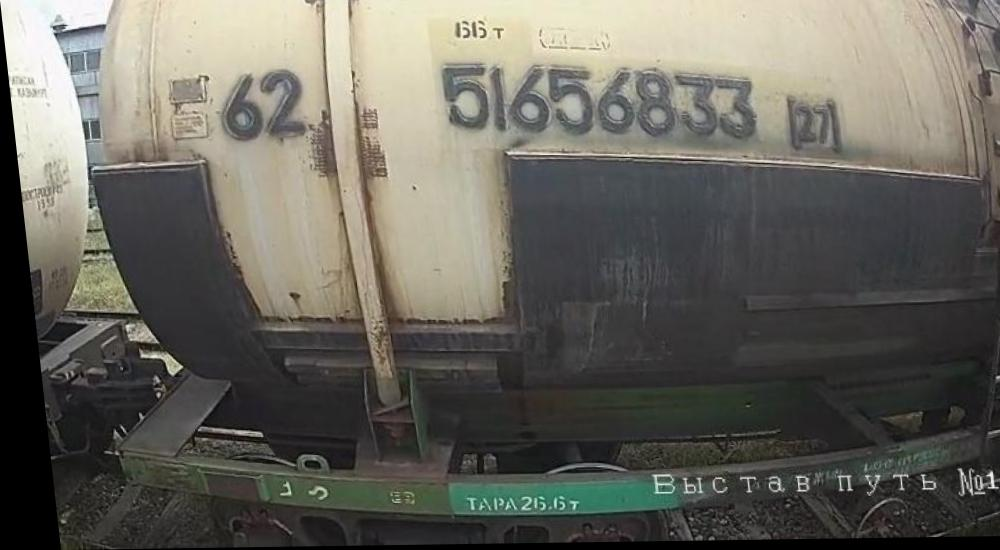Wagon-number: (429, 57, 763, 152)
